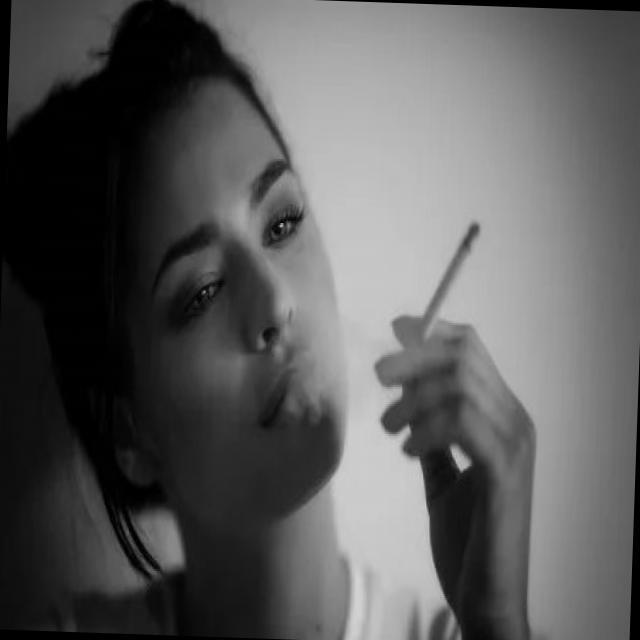smoke: (412, 214, 483, 356)
